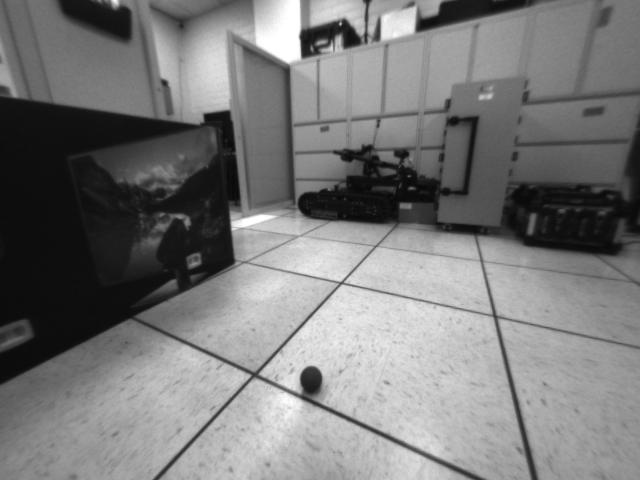dogtoy: (296, 362, 329, 399)
